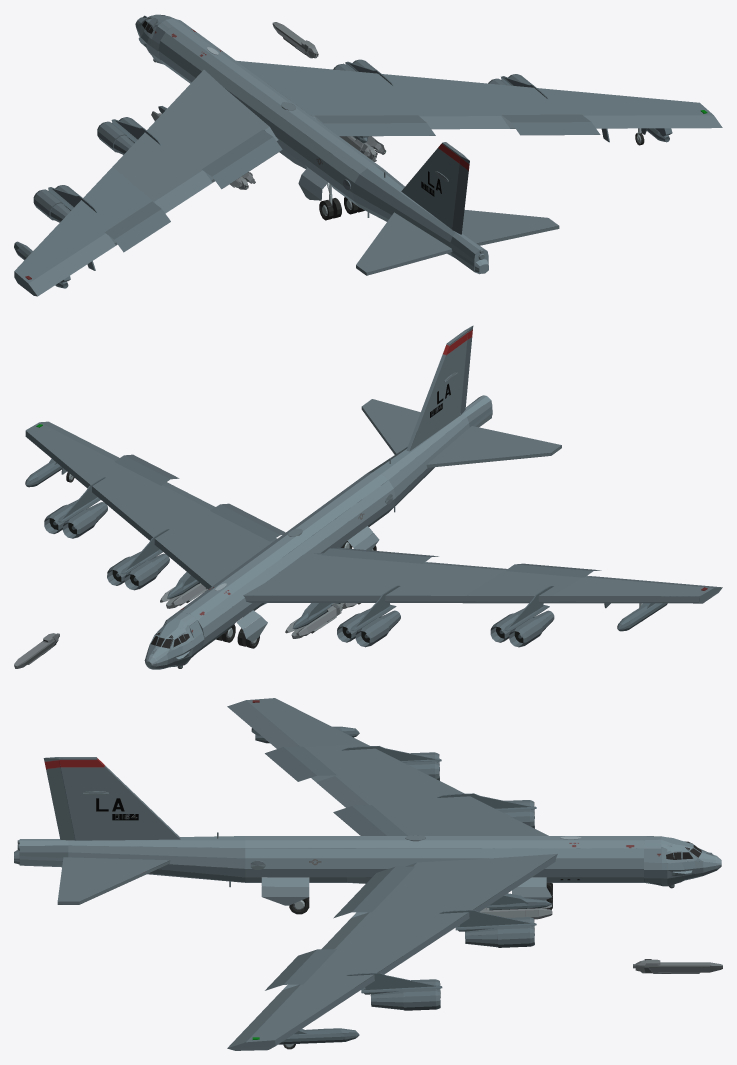
The model's file is stratofortress.fbx.
3 renders of one model, top to bottom at view 1: azimuth 30°, elevation 25°; view 2: azimuth 150°, elevation 25°; view 3: azimuth 270°, elevation 25°, orthographic. The views are drawn at different scales.
Parts seen in each view (by area): view 1: cuboid.048, cuboid, cylinder.002, cuboid.092, cuboid.093, cuboid.045, cuboid.046, cuboid.044, cylinder, cuboid.047, cylinder.018, cylinder.020 (+2 smaller); view 2: cuboid.048, cylinder.002, cuboid, cuboid.045, cuboid.046, cylinder, cuboid.092, cuboid.044, cuboid.093, cylinder.010, cylinder.020, cylinder.018 (+6 smaller); view 3: cylinder.002, cuboid, cuboid.048, cuboid.046, cuboid.044, cuboid.092, cuboid.093, cylinder, cylinder.009, cylinder.007, cuboid.047, cylinder.026 (+8 smaller).
Boxes of the visible parts, x1=… form: cuboid.048: x1=14, y1=70, x2=278, y2=296; cuboid: x1=236, y1=60, x2=722, y2=129; cylinder.002: x1=158, y1=24, x2=488, y2=274; cuboid.092: x1=315, y1=114, x2=600, y2=136; cuboid.093: x1=105, y1=129, x2=282, y2=252; cuboid.045: x1=356, y1=212, x2=452, y2=275; cuboid.046: x1=401, y1=142, x2=463, y2=229; cuboid.044: x1=462, y1=210, x2=559, y2=245; cylinder: x1=135, y1=14, x2=188, y2=64; cuboid.047: x1=452, y1=155, x2=469, y2=234; cylinder.018: x1=97, y1=121, x2=134, y2=154; cylinder.020: x1=33, y1=189, x2=70, y2=222; cuboid.048: x1=243, y1=553, x2=722, y2=603; cylinder.002: x1=175, y1=395, x2=492, y2=651; cuboid: x1=25, y1=421, x2=276, y2=589; cuboid.045: x1=426, y1=426, x2=561, y2=467; cuboid.046: x1=406, y1=330, x2=467, y2=451; cylinder: x1=144, y1=612, x2=204, y2=669; cuboid.092: x1=115, y1=454, x2=285, y2=541; cuboid.044: x1=361, y1=399, x2=420, y2=454; cuboid.093: x1=321, y1=547, x2=601, y2=577; cylinder.010: x1=62, y1=502, x2=107, y2=538; cylinder.020: x1=509, y1=610, x2=554, y2=647; cylinder.018: x1=355, y1=610, x2=400, y2=647; cylinder.002: x1=14, y1=836, x2=643, y2=883; cuboid: x1=227, y1=853, x2=557, y2=1050; cuboid.048: x1=227, y1=698, x2=548, y2=835; cuboid.046: x1=59, y1=757, x2=180, y2=840; cuboid.044: x1=57, y1=857, x2=170, y2=904; cuboid.092: x1=265, y1=866, x2=414, y2=990; cuboid.093: x1=265, y1=746, x2=407, y2=835; cylinder: x1=644, y1=836, x2=721, y2=886; cylinder.009: x1=370, y1=988, x2=440, y2=1010; cylinder.007: x1=465, y1=925, x2=534, y2=947; cuboid.047: x1=43, y1=757, x2=75, y2=840; cylinder.026: x1=261, y1=877, x2=309, y2=905.
Size of the model in its own units: 3668 by 739 by 3200.
14 materials, 14 textured.
